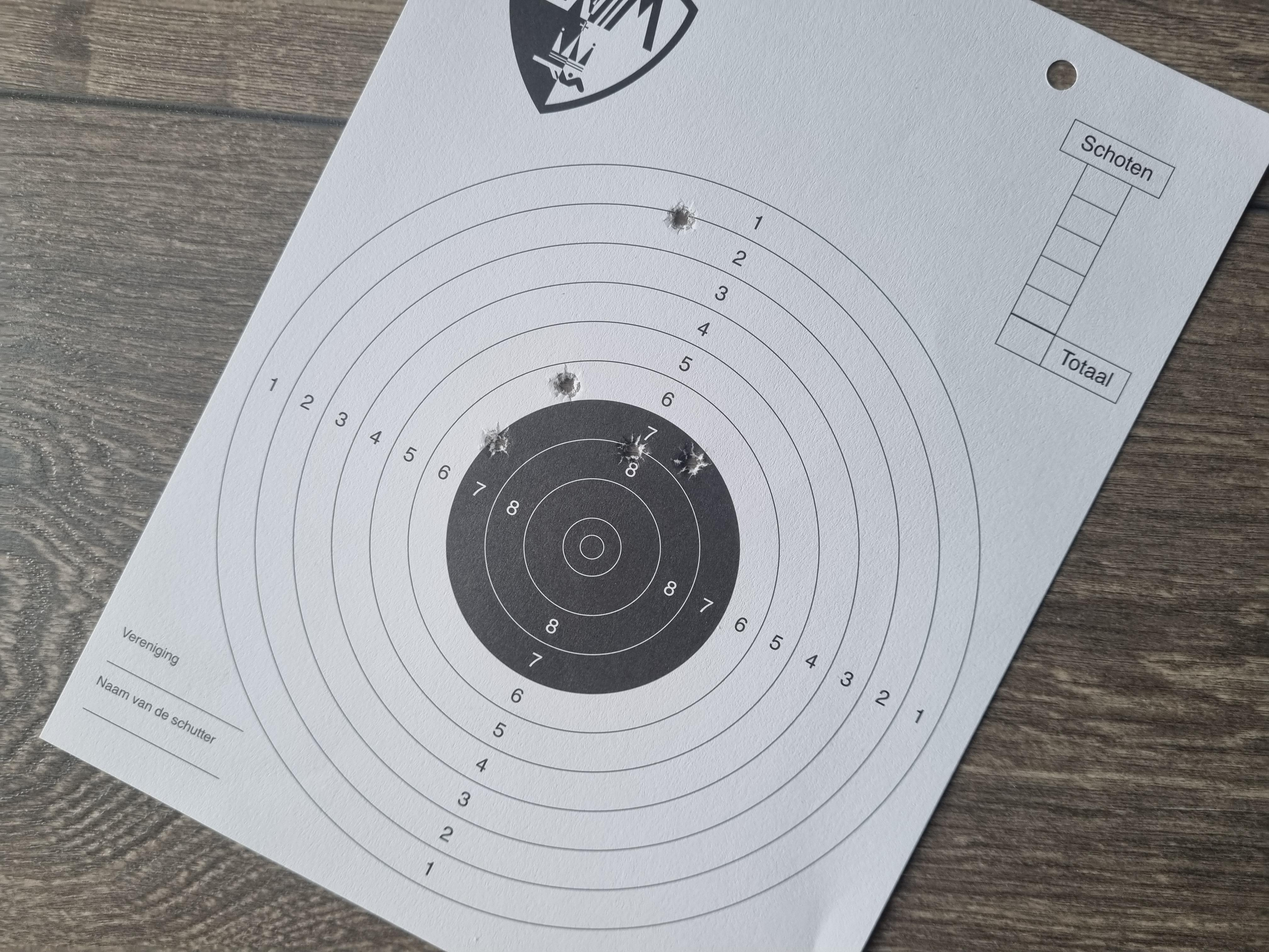hole: (635, 505, 678, 533), (657, 362, 706, 383), (650, 464, 691, 486), (739, 414, 774, 436), (962, 502, 996, 522)
